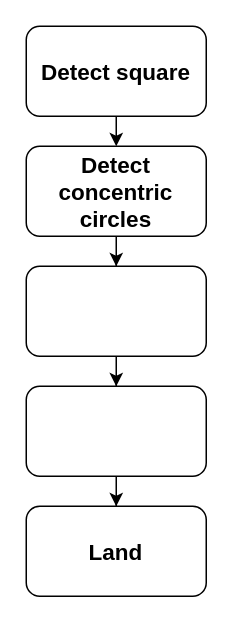
The diagram is 233 pixels wide and 623 high, and some of its shapes have lost their labels. The shapes that lost their labels are listed below. From the top down, each one's centre as x and y in pixels, then its label:
At (115,310): "Detect inner circle".
At (115,430): "Detect tins".
